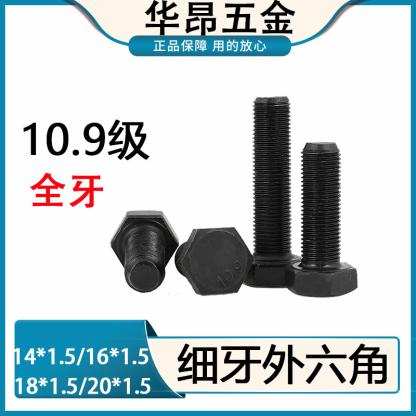FOD: (234, 93, 310, 291), (284, 138, 359, 299), (108, 207, 181, 293), (174, 224, 254, 299)
